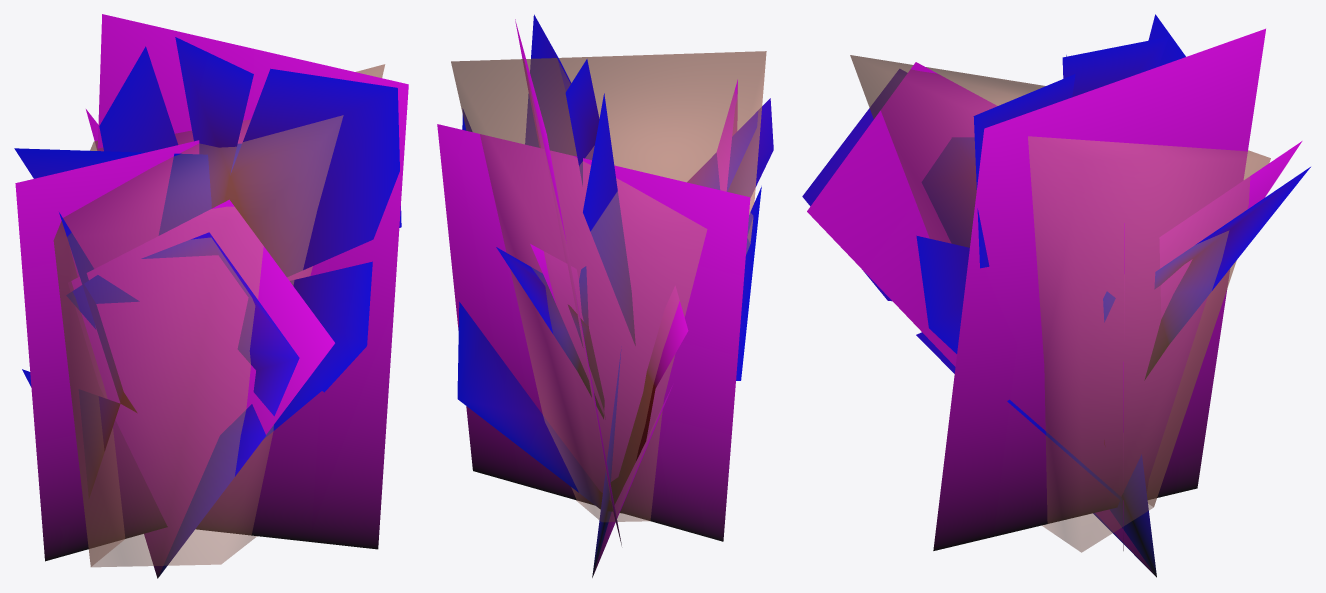
Rendered from tree_beech_bush_a.dae.
3 renders of one model, left to right at view 1: azimuth 30°, elevation 25°; view 2: azimuth 150°, elevation 25°; view 3: azimuth 270°, elevation 25°, orthographic. The views are drawn at different scales.
Visible parts, largest first — view 1: beech_bush_a_a150, Colmesh_bush_a-1, beech_bush_a_a300; view 2: beech_bush_a_a150, Colmesh_bush_a-1, beech_bush_a_a300; view 3: beech_bush_a_a150, Colmesh_bush_a-1, beech_bush_a_a300.
Boxes of the visible parts, left/top/right/bottom form: beech_bush_a_a150: left=15, top=14, right=408, bottom=578; Colmesh_bush_a-1: left=53, top=64, right=385, bottom=567; beech_bush_a_a300: left=14, top=37, right=401, bottom=577; beech_bush_a_a150: left=437, top=19, right=750, bottom=577; Colmesh_bush_a-1: left=451, top=51, right=766, bottom=522; beech_bush_a_a300: left=457, top=14, right=773, bottom=577; beech_bush_a_a150: left=807, top=28, right=1302, bottom=576; Colmesh_bush_a-1: left=850, top=55, right=1270, bottom=552; beech_bush_a_a300: left=802, top=14, right=1310, bottom=577.
Size of the model in its own units: 1.02 by 1.24 by 1.5.
